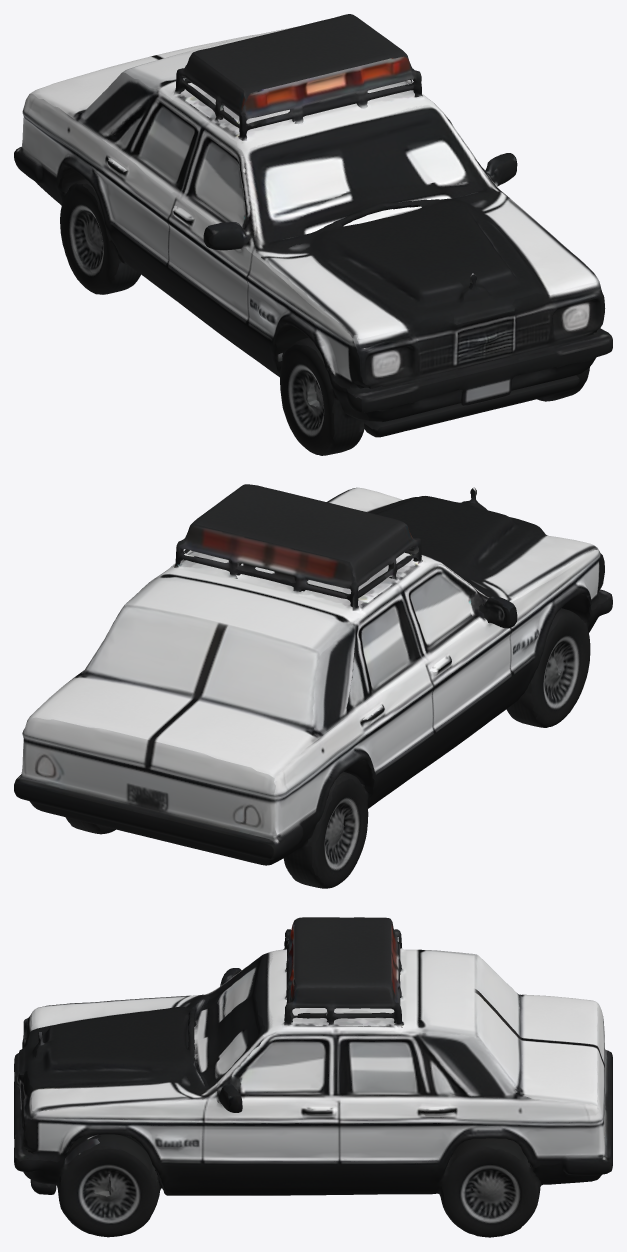
File: patrullero.glb
3 views of the same model, one above another, from view 1: azimuth 30°, elevation 25°; view 2: azimuth 150°, elevation 25°; view 3: azimuth 270°, elevation 25° (orthographic). The views are drawn at different scales.
Parts seen in each view (by area): view 1: tmpa36810k2.ply; view 2: tmpa36810k2.ply; view 3: tmpa36810k2.ply.
Boxes of the visible parts, x1,y1,x2,y2 form: tmpa36810k2.ply: (14, 14, 612, 455); tmpa36810k2.ply: (14, 484, 612, 888); tmpa36810k2.ply: (14, 917, 612, 1237).
Size of the model in its own units: 0.5116 by 0.4288 by 0.9885.
Materials: 1 (1 with a texture image).
